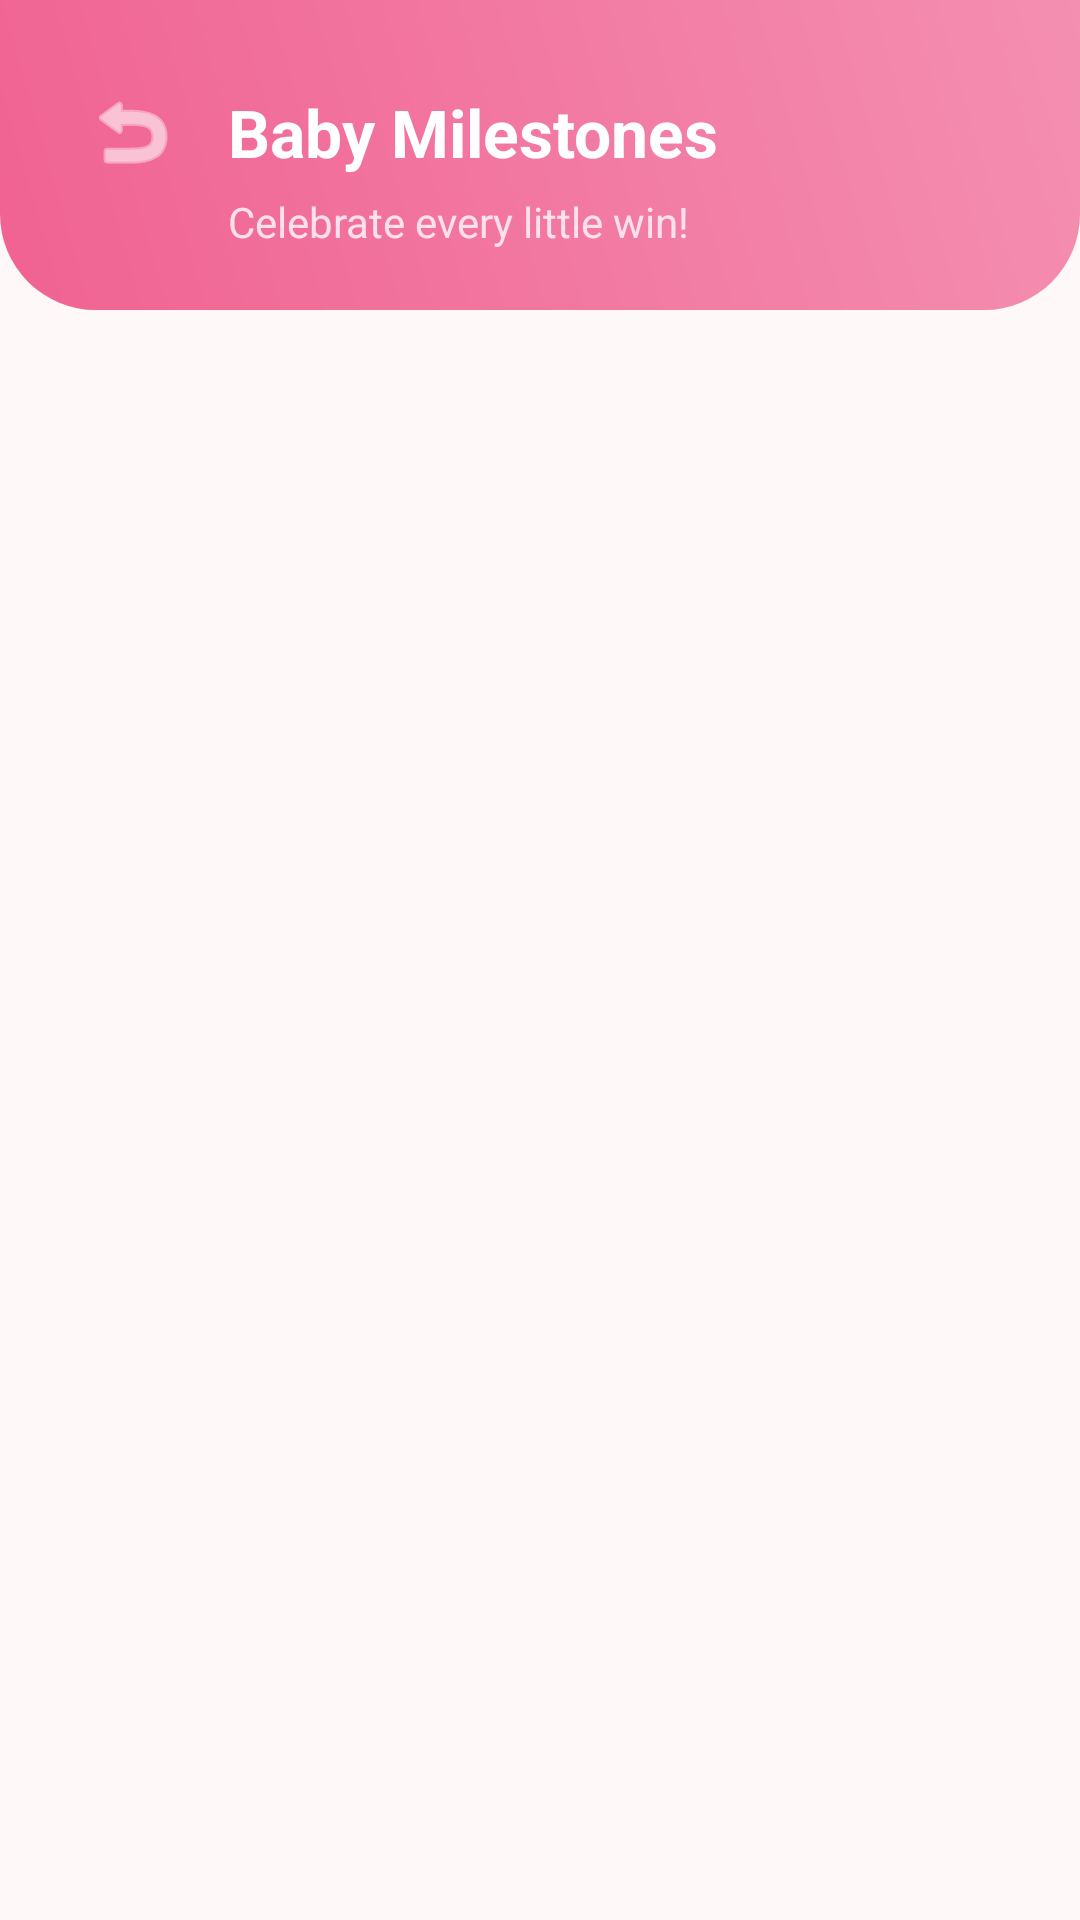

Where to tap for icons on this 1080px×1920px app screen, as point (x, y):
Back: point (133, 133)
